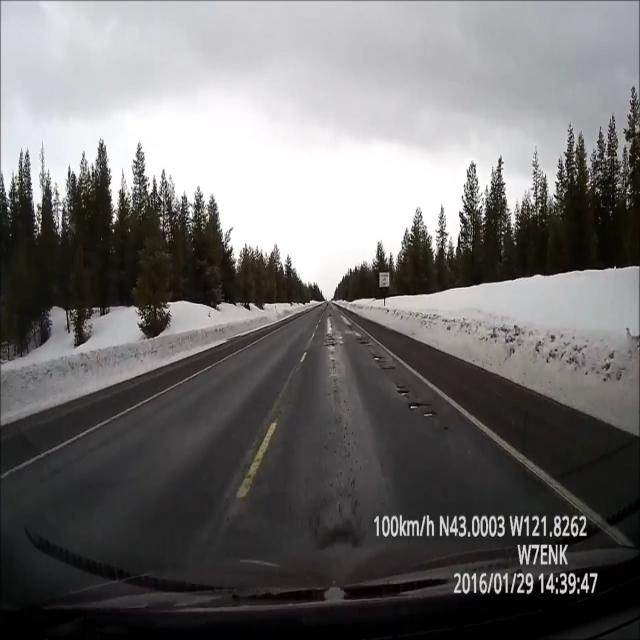Pothole: (356, 330, 402, 380), (394, 379, 437, 432)
